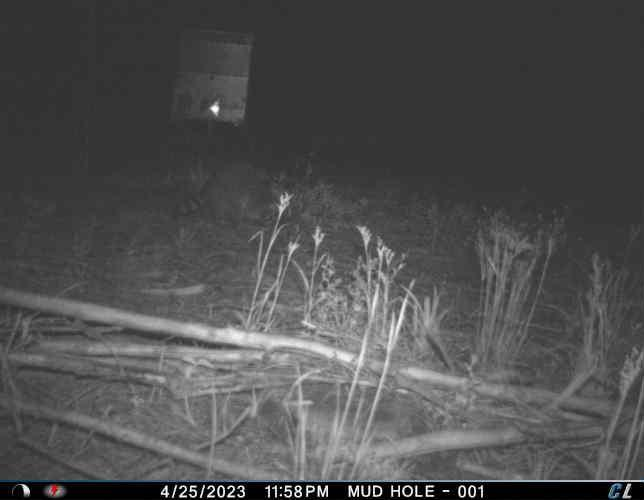Raccoon: (178, 157, 294, 229)
